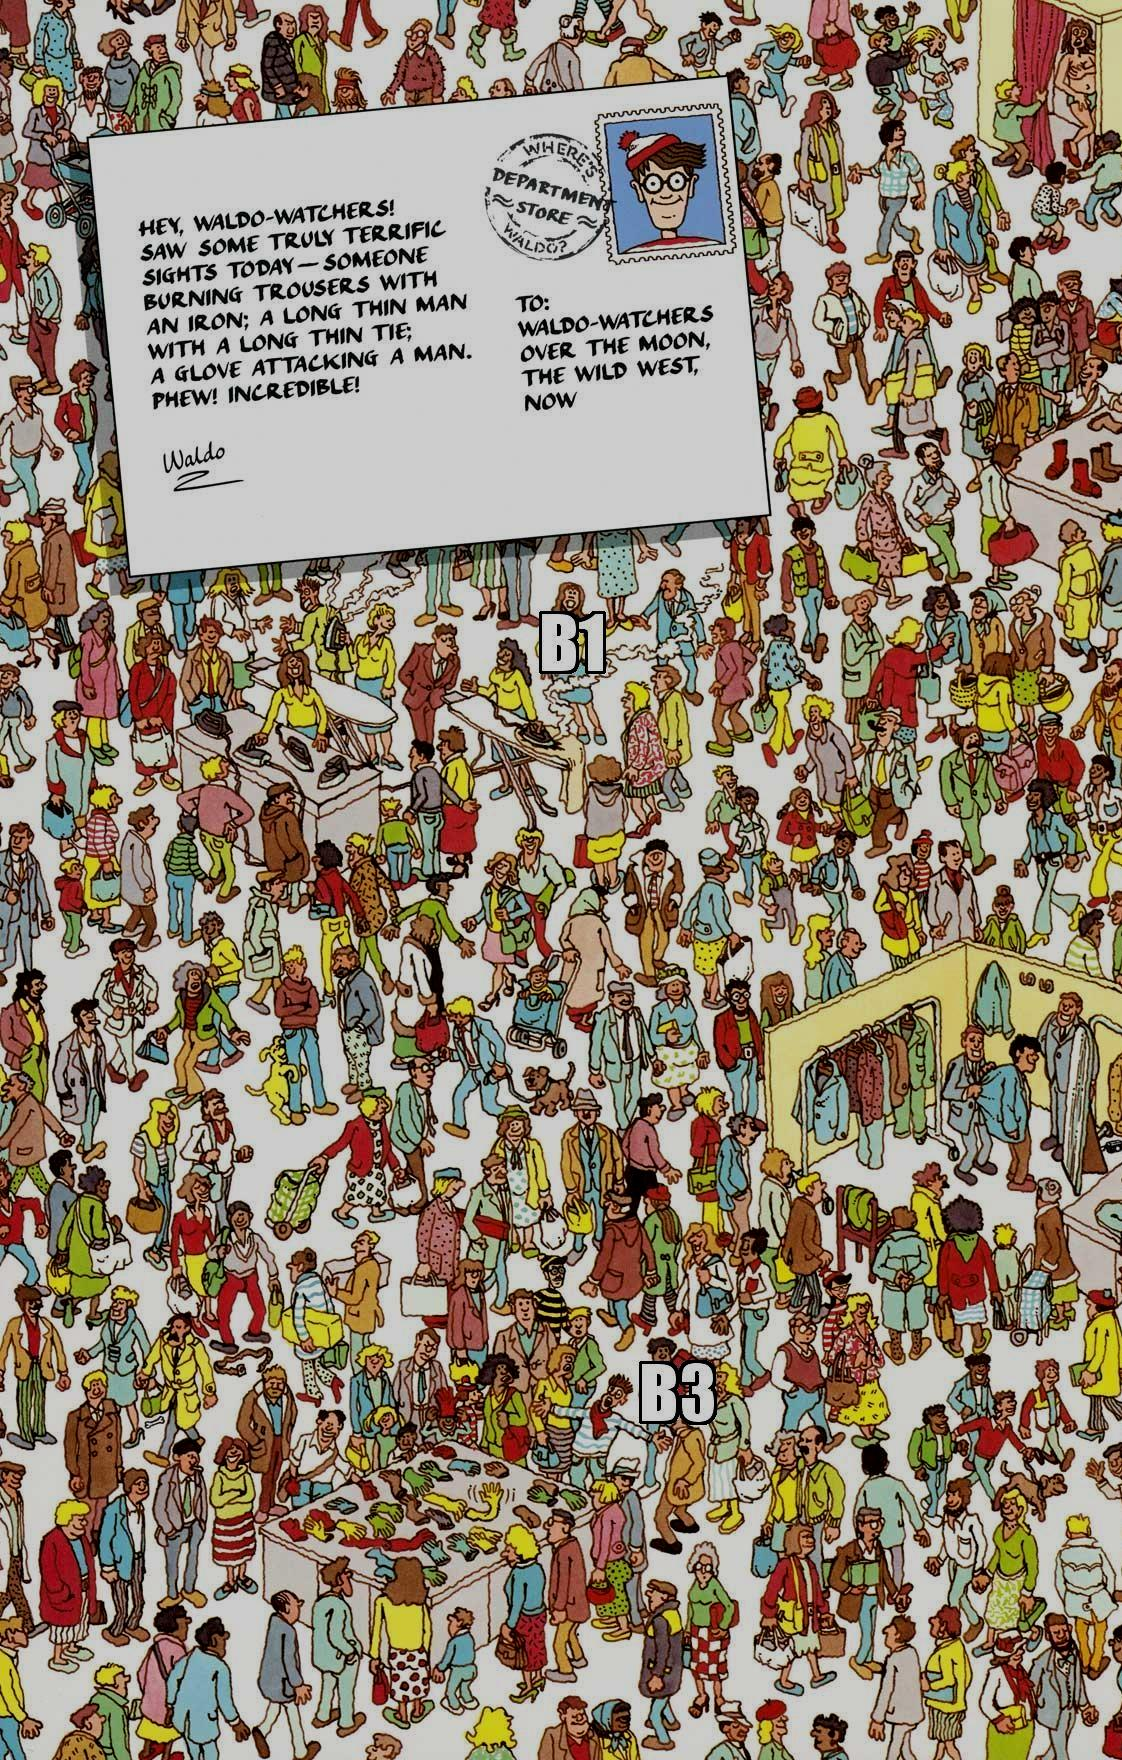waldos: (615, 123, 727, 253)
